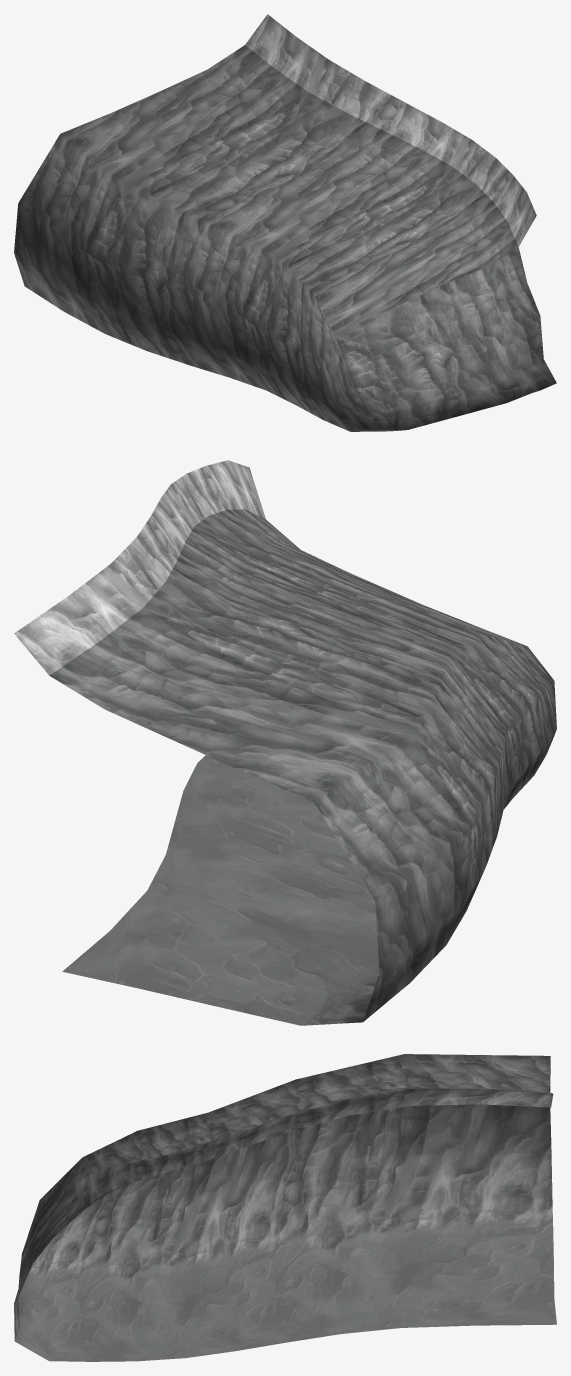
The model's file is SWORDLIGHT20_PS-AREA03_25.fbx.
3 renders of one model, top to bottom at view 1: azimuth 30°, elevation 25°; view 2: azimuth 150°, elevation 25°; view 3: azimuth 270°, elevation 25°, orthographic. The views are drawn at different scales.
Parts seen in each view (by area): view 1: SWORDLIGHT20_PS-AREA03_25; view 2: SWORDLIGHT20_PS-AREA03_25; view 3: SWORDLIGHT20_PS-AREA03_25.
Boxes of the visible parts, x1,y1,x2,y2 form: SWORDLIGHT20_PS-AREA03_25: (14,14,556,431); SWORDLIGHT20_PS-AREA03_25: (14,460,556,1025); SWORDLIGHT20_PS-AREA03_25: (14,1054,556,1361).
Size of the model in its own units: 100595 by 70990 by 137970.
4 materials, 4 textured.
